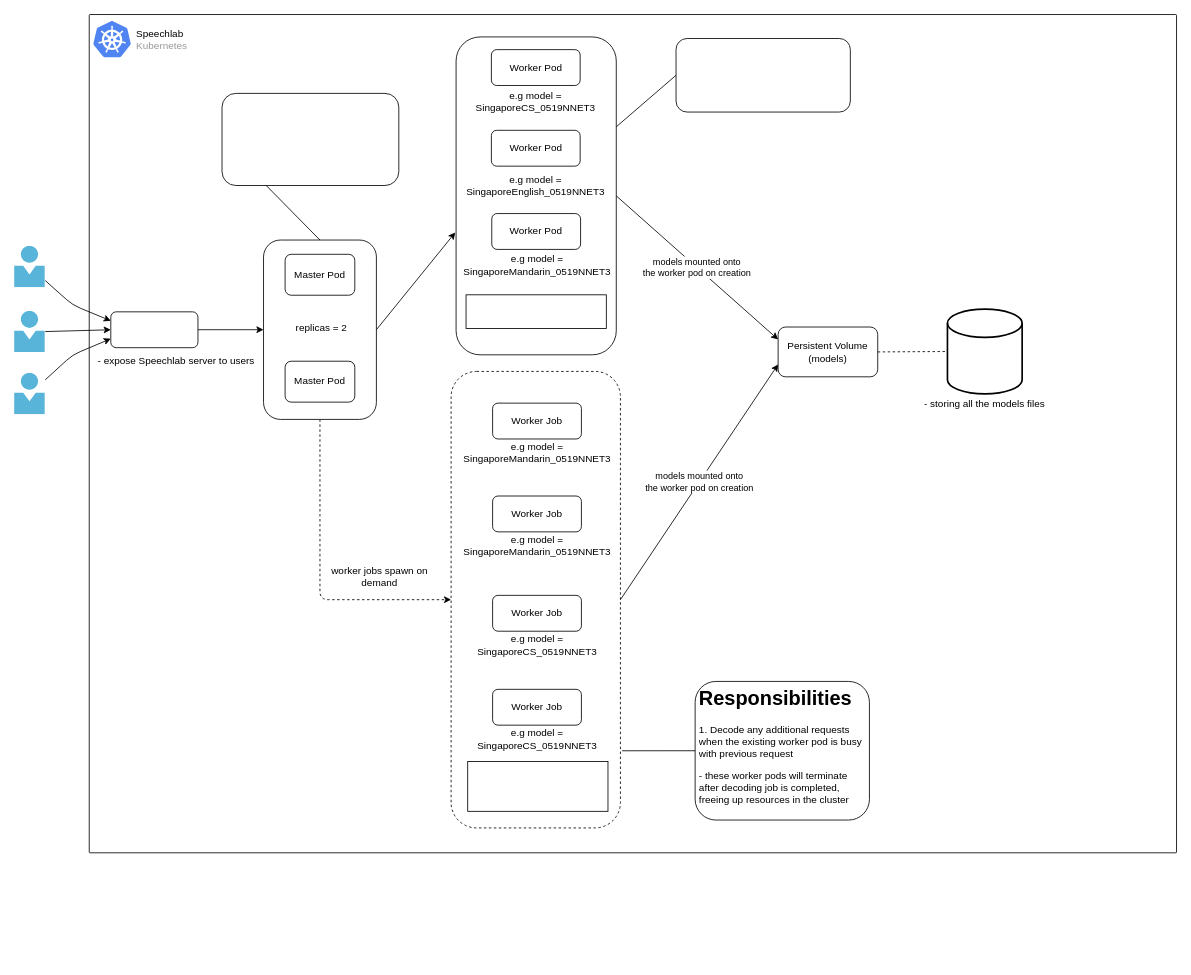
The diagram is 1191 pixels wide and 975 high, and some of its shapes have lost their labels. Each missing label, with the centre of its shape:
"Azure Files" goes at point (984, 351).
"can have more worker jobs if Kubernetes cluster has enough resources" goes at point (537, 786).
"Master Service" goes at point (154, 329).
"One worker pod per model replicas = 1" goes at point (535, 311).
"Responsibilities 1. Load Balancing 2. Spawn new job workers" goes at point (310, 139).
"Responsibility 1. Standby to decode any incoming requests" goes at point (762, 75).
